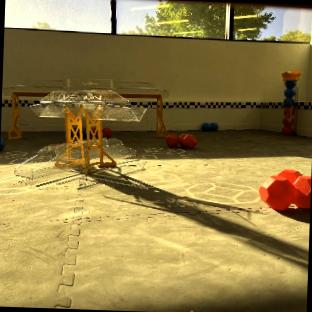Med_goal: (30, 88, 146, 169)
V5_BLUE: (202, 122, 218, 130)
V5_RED: (258, 169, 311, 211), (166, 134, 197, 149), (284, 106, 292, 133), (103, 128, 112, 136)
